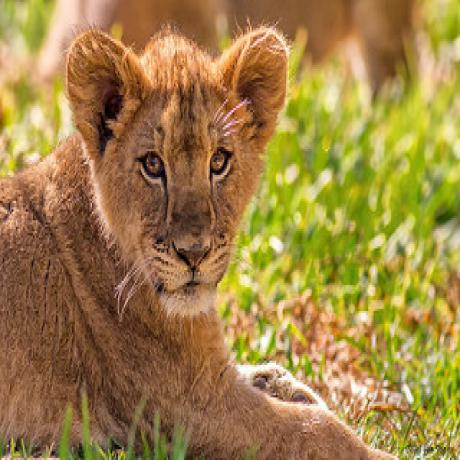Lion: (0, 17, 344, 459)
